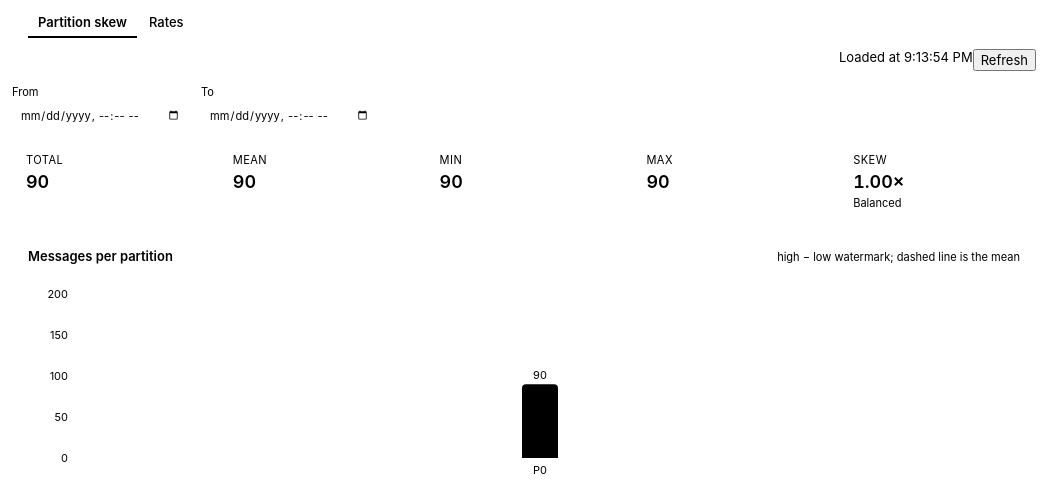
Test case: TopicMetricsTab › From / To window › shows the broker's error when counting fails
Type "2026-01-01T00:00" into the field labelled "From" at (100, 116), box [12,103,189,129]
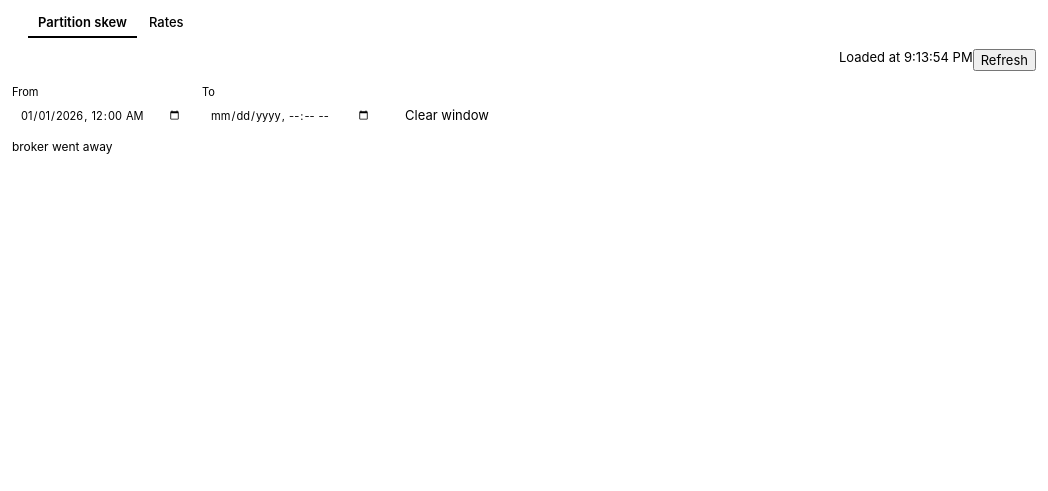
Expected: the message reads "broker went away", [12,139,112,154]
